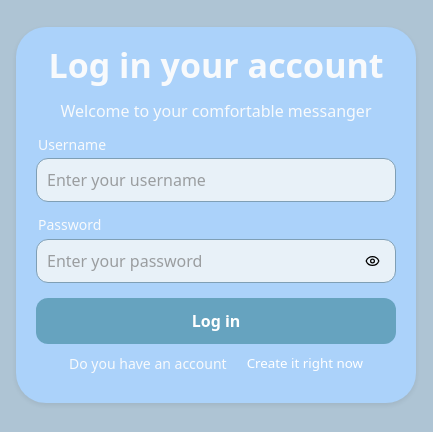
Пустая форма пароля показывает ошибку пароля и не вызывает вход
The image size is (433, 432).
Действие
In the field labelled "Username": (216, 180) top-left (36, 158), bottom-right (396, 202), type "Egor"
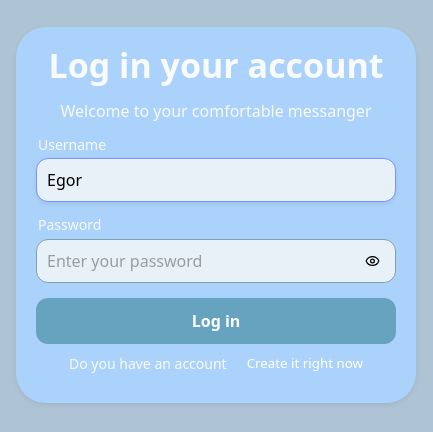
Click the button "Log in": (216, 321) top-left (36, 298), bottom-right (396, 344)
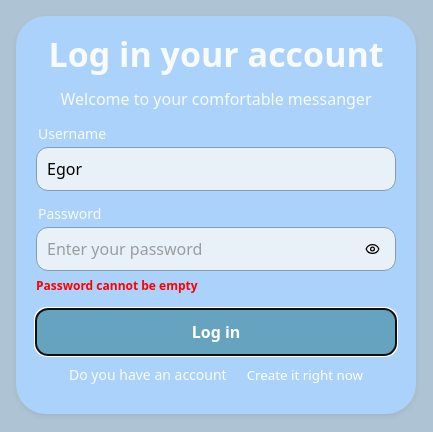
Check: the text "Password cannot be empty" is shown, box top-left (36, 277), bottom-right (198, 294)
